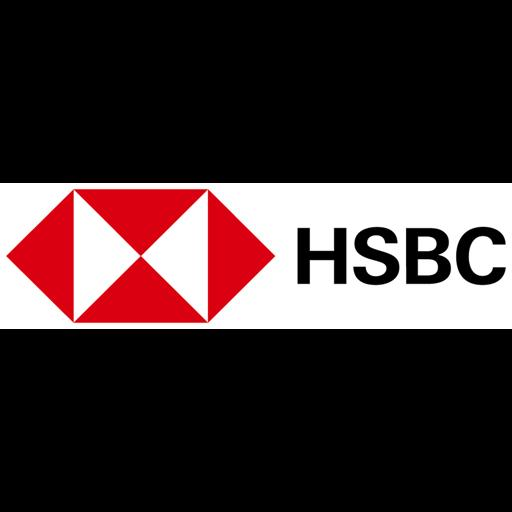HSBC Bank: (0, 183, 512, 329)
